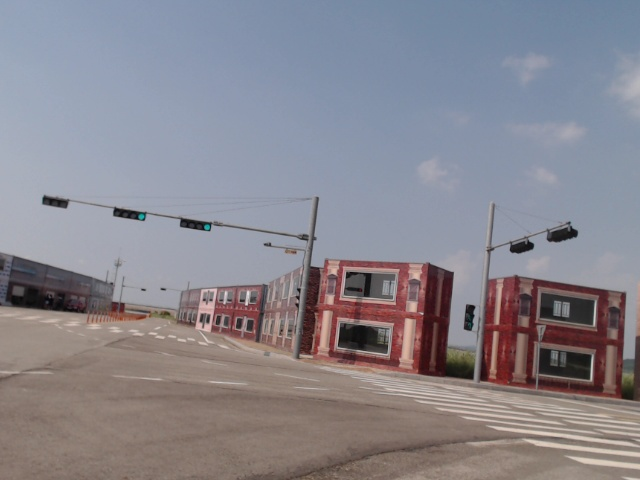straight_green_4: (113, 208, 146, 221), (180, 218, 210, 231)
